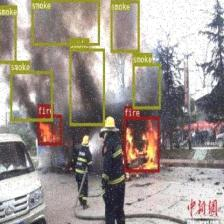smoke: (31, 0, 99, 45), (69, 48, 105, 125), (10, 70, 52, 121), (110, 0, 138, 52), (132, 63, 160, 108), (0, 5, 16, 63)
